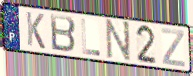2: (135, 23, 158, 66)
B: (49, 13, 77, 55)
K: (25, 11, 47, 52)
L: (80, 17, 102, 57)
N: (105, 18, 131, 64)
Z: (160, 27, 186, 68)
